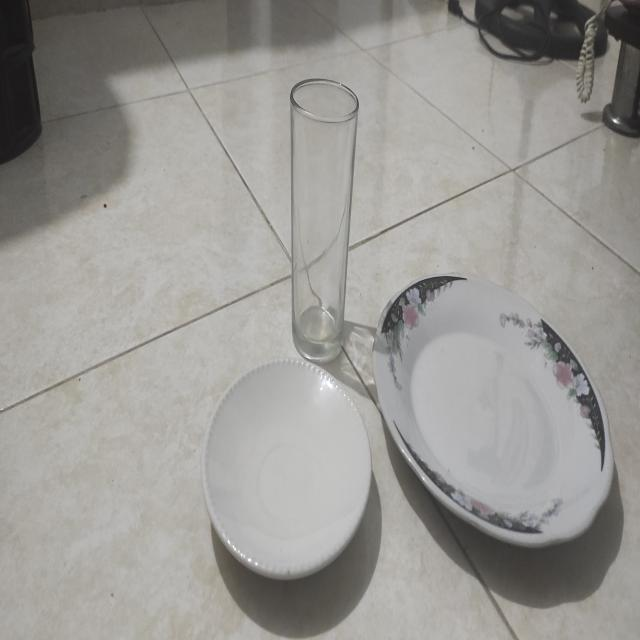non-organic waste: (370, 256, 623, 557), (197, 340, 375, 586)
